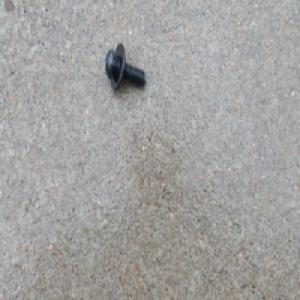BoltWasher: (104, 40, 146, 90)
